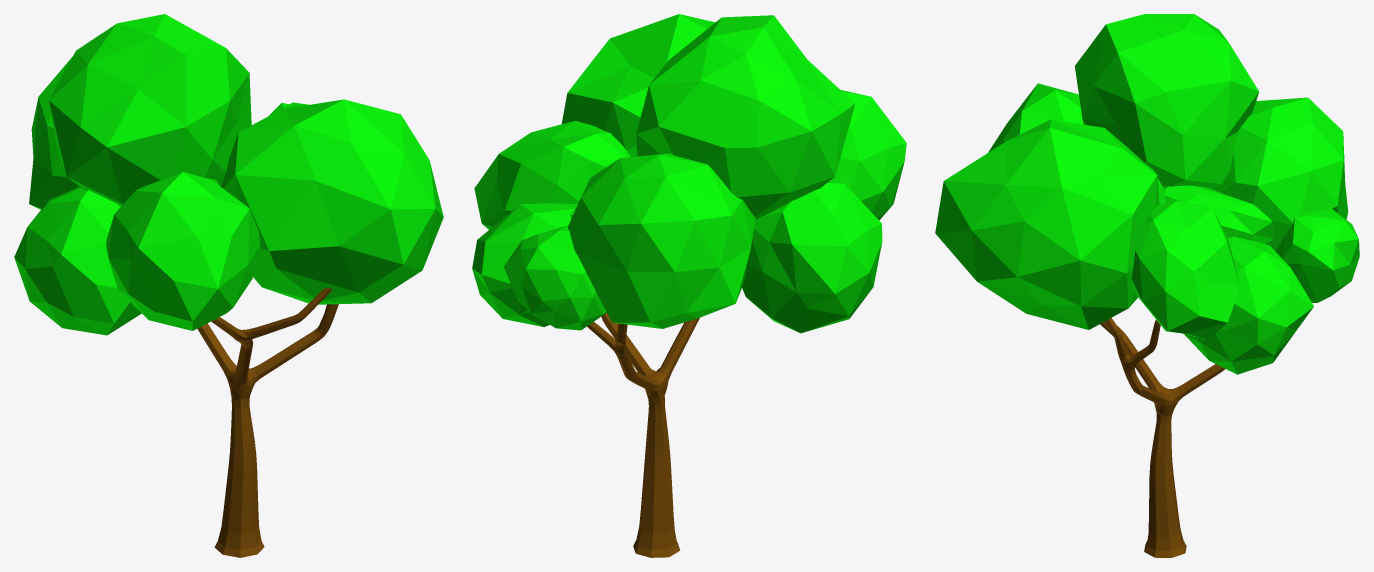
File: treeee2.fbx
3 views of the same model, side by side, from view 1: azimuth 30°, elevation 25°; view 2: azimuth 150°, elevation 25°; view 3: azimuth 270°, elevation 25° (orthographic). The views are drawn at different scales.
Visible parts, largest first — view 1: treeee2; view 2: treeee2; view 3: treeee2.
Boxes of the visible parts, x1,y1,x2,y2 form: treeee2: [14, 14, 443, 557]; treeee2: [472, 14, 906, 557]; treeee2: [935, 14, 1359, 557].
Size of the model in its own units: 886 by 1211 by 943.
